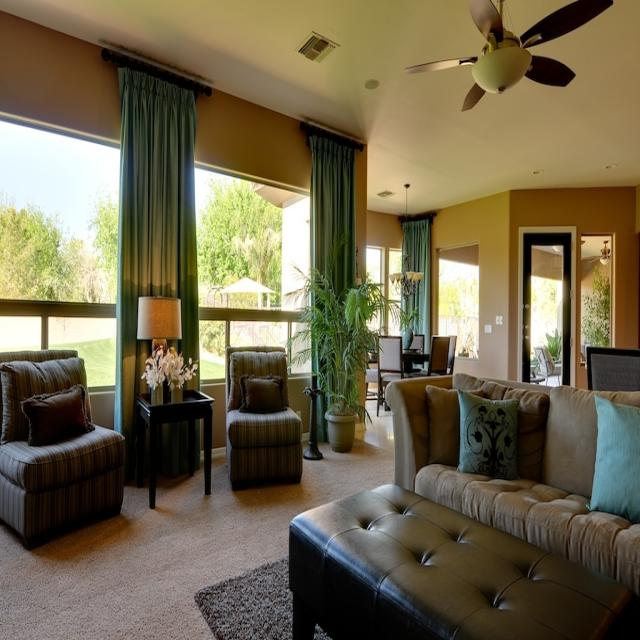Bulb: (404, 0, 616, 112)
